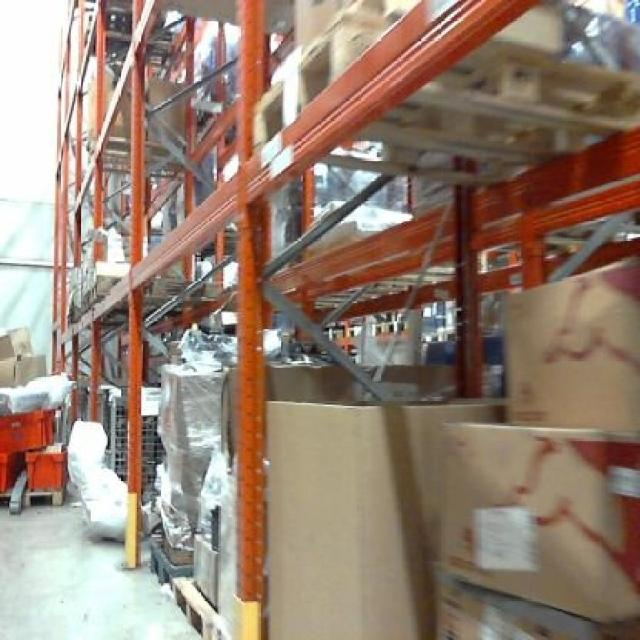pallets: (266, 398, 500, 637), (437, 423, 637, 637), (505, 257, 637, 428)
